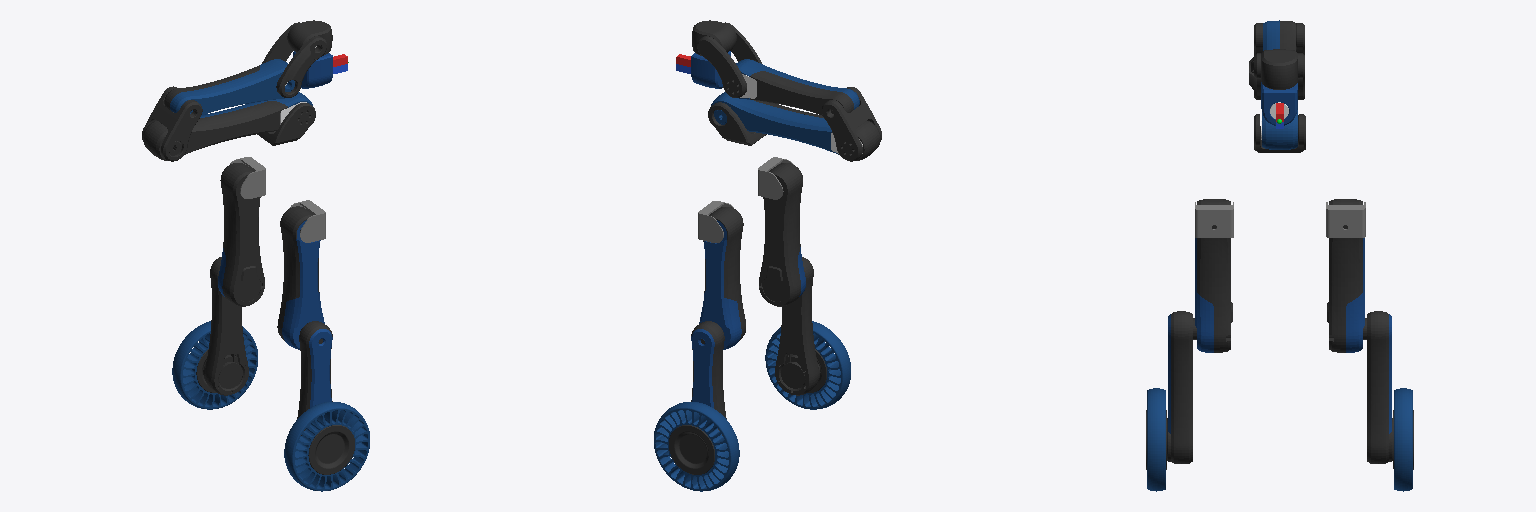
The robot description file, URDF, robot "ß_gripper":
<?xml version="1.0" encoding="utf-8"?>
<robot name="ß_gripper" xmlns:xacro="http://www.ros.org/wiki/xacro">

<!-- =================================================== pineappleV3 =================================================== -->

  <link name="base_link">
    <inertial>
      <origin
        xyz="0.00743277 -0.00031002 0.0824108" rpy="0 0 0" />
      <mass
        value="4.6" />
      <inertia
        ixx="0.03542461"
        ixy="-5.543E-05"
        ixz="0.00267146"
        iyy="0.04154315"
        iyz="2.215E-05"
        izz="0.04752478" />
    </inertial>
    <visual>
        <origin xyz="0 0 0" rpy="0 0 0" />
        <geometry>
          <mesh filename="package://v3_arm/meshes/base_link.dae" scale="1 1 1" />
        </geometry>
    </visual>
    <collision>
      <origin xyz="-0.005 0 0.05" rpy="0 0 0" />
      <geometry>
        <box size="0.23 0.08 0.12"/>
      </geometry>
    </collision>
    <collision>
      <origin xyz="-0.015 0 0.13" rpy="0 0 0" />
      <geometry>
        <box size="0.29 0.145 0.04"/>
      </geometry>
    </collision>
    <collision>
      <origin xyz="0 0 0.17" rpy="0 0 0" />
      <geometry>
        <box size="0.13 0.13 0.04"/>
      </geometry>
    </collision>
    <collision>
      <origin xyz="0.0864 -0.1208 0.043" rpy="0 1.57 0" />
      <geometry>
        <cylinder length="0.05" radius="0.045"/>
      </geometry>
    </collision>
    <collision>
      <origin xyz="0.0864 0.1208 0.043" rpy="0 1.57 0" />
      <geometry>
        <cylinder length="0.05" radius="0.045"/>
      </geometry>
    </collision>
  </link>

  <link name="hip_thigh_conn_r">
    <inertial>
      <origin
        xyz="-0.01563098 0.00040205 0.01402603" rpy="0 0 0" />
      <mass
        value="0.24" />
      <inertia
        ixx="0.00024193"
        ixy="-7.054E-09"
        ixz="-1.349E-05"
        iyy="0.00013104"
        iyz="6.889E-09"
        izz="0.00022826" />
    </inertial>
    <visual>
        <origin xyz="0 0 0" rpy="0 0 0" />
        <geometry>
          <mesh filename="package://v3_arm/meshes/hip_thigh_conn.dae" scale="1 1 1" />
        </geometry>
    </visual>
  </link>

  <link name="hip_thigh_conn_l">
    <inertial>
      <origin
        xyz="-0.01563098 0.00040205 0.01402603" rpy="0 0 0" />
      <mass
        value="0.24" />
      <inertia
        ixx="0.00024193"
        ixy="-7.054E-09"
        ixz="-1.349E-05"
        iyy="0.00013104"
        iyz="6.889E-09"
        izz="0.00022826" />
    </inertial>
    <visual>
        <origin xyz="0 0 0" rpy="0 0 0" />
        <geometry>
          <mesh filename="package://v3_arm/meshes/hip_thigh_conn.dae" scale="1 1 1" />
        </geometry>
    </visual>
  </link>

  <link name="thigh_r">
    <inertial>
      <origin
        xyz="-5.792E-05 -0.03537558 -0.12551777" rpy="0 0 0" />
      <mass
        value="1.52" />
      <inertia
        ixx="0.01435771"
        ixy="1.027E-06"
        ixz="-3.292E-06"
        iyy="0.01442563"
        iyz="-0.00012097"
        izz="0.00123446" />
    </inertial>
    <visual>
        <origin xyz="0 0 0" rpy="0 0 0" />
        <geometry>
          <mesh filename="package://v3_arm/meshes/thigh_r.dae" scale="1 1 1" />
        </geometry>
    </visual>
    <collision>
      <origin xyz="0 -0.0367 -0.114" rpy="0 0 0" />
      <geometry>
        <box size="0.064 0.0675 0.288"/>
      </geometry>
    </collision>
  </link>

  <link name="thigh_l">
    <inertial>
      <origin
        xyz="-5.792E-05 0.03537558 -0.12551777" rpy="0 0 0" />
      <mass
        value="1.52" />
      <inertia
        ixx="0.01435771"
        ixy="-1.027E-06"
        ixz="-3.292E-06"
        iyy="0.01442563"
        iyz="0.00012097"
        izz="0.00123446" />
    </inertial>
    <visual>
        <origin xyz="0 0 0" rpy="0 0 0" />
        <geometry>
          <mesh filename="package://v3_arm/meshes/thigh_l.dae" scale="1 1 1" />
        </geometry>
    </visual>
    <collision>
      <origin xyz="0 0.0367 -0.114" rpy="0 0 0" />
      <geometry>
        <box size="0.064 0.0675 0.288"/>
      </geometry>
    </collision>
  </link>

  <link name="calf_r">
    <inertial>
      <origin
        xyz="-9.341E-06 -0.0234359 -0.13792489" rpy="0 0 0" />
      <mass
        value="0.91" />
      <inertia
        ixx="0.0077057"
        ixy="-5.032E-08"
        ixz="1.045E-06"
        iyy="0.00789745"
        iyz="-0.00017235"
        izz="0.00055726" />
    </inertial> 
    <visual>
        <origin xyz="0 0 0" rpy="0 0 0" />
        <geometry>
          <mesh filename="package://v3_arm/meshes/calf_r.dae" scale="1 1 1" />
        </geometry>
    </visual>
    <collision>
      <origin xyz="0 -0.0223 -0.1175" rpy="0 0 0" />
      <geometry>
        <box size="0.07 0.0445 0.295"/>
      </geometry>
    </collision>
  </link>

  <link name="calf_l">
    <inertial>
      <origin
        xyz="-9.341E-06 0.0234359 -0.13792489" rpy="0 0 0" />
      <mass
        value="0.91" />
      <inertia
        ixx="0.0077057"
        ixy="5.032E-08"
        ixz="1.045E-06"
        iyy="0.00789745"
        iyz="0.00017235"
        izz="0.00055726" />
    </inertial>
    <visual>
        <origin xyz="0 0 0" rpy="0 0 0" />
        <geometry>
          <mesh filename="package://v3_arm/meshes/calf_l.dae" scale="1 1 1" />
        </geometry>
    </visual>
    <collision>
      <origin xyz="0 0.0223 -0.1175" rpy="0 0 0" />
      <geometry>
        <box size="0.07 0.0445 0.295"/>
      </geometry>
    </collision>
  </link>

  <link name="wheel_r">
    <inertial>
      <origin
        xyz="0 -0.0101505 0" rpy="0 0 0" />
      <mass
        value="0.49" />
      <inertia
        ixx="0.00104471"
        ixy="0"
        ixz="0"
        iyy="0.00199485"
        iyz="0"
        izz="0.00104471" />
    </inertial>
    <visual>
        <origin xyz="0 0 0" rpy="0 0 0" />
        <geometry>
          <mesh filename="package://v3_arm/meshes/wheel_r.dae" scale="1 1 1" />
        </geometry>
    </visual>
    <collision>
      <origin xyz="0 -0.0097 0" rpy="1.57 0 0" />
      <geometry>
        <cylinder length="0.035" radius="0.0925"/>
      </geometry>
    </collision>
  </link>

  <link name="wheel_l">
    <inertial>
      <origin
        xyz="0 0.0101505 0" rpy="0 0 0" />
      <mass
        value="0.49" />
      <inertia
        ixx="0.00104471"
        ixy="0"
        ixz="0"
        iyy="0.00199485"
        iyz="0"
        izz="0.00104471" />
    </inertial>
    <visual>
        <origin xyz="0 0 0" rpy="0 0 0" />
        <geometry>
          <mesh filename="package://v3_arm/meshes/wheel_l.dae" scale="1 1 1" />
        </geometry>
    </visual>
    <collision>
      <origin xyz="0 0.0097 0" rpy="1.57 0 0" />
      <geometry>
        <cylinder length="0.035" radius="0.0925"/>
      </geometry>
    </collision>
  </link>

  <joint name="hip_r_joint" type="revolute">
    <parent link="base_link"/>
    <child link="hip_thigh_conn_r"/>
    <origin xyz="0.0303 -0.1208 0.04299" rpy="0 0 0"/>
    <axis xyz="1 0 0"/>
    <limit
      lower="-1.0472"
      upper="0.6108"
      effort="0"
      velocity="0" />
  </joint>

  <joint name="thigh_r_joint" type="revolute">
    <parent link="hip_thigh_conn_r"/>
    <child link="thigh_r"/>
    <origin xyz="-0.04 0.034 0" rpy="0 0 0"/>
    <axis xyz="0 1 0"/>
    <limit
      lower="0"
      upper="1.74533"
      effort="0"
      velocity="0" />
  </joint>

  <joint name="calf_r_joint" type="revolute">
    <parent link="thigh_r"/>
    <child link="calf_r"/>
    <origin xyz="0 -0.0741 -0.225" rpy="0 0 0"/>
    <axis xyz="0 1 0"/>
    <limit
      lower="-3.229"
      upper="0"
      effort="0"
      velocity="0" />
  </joint>

  <joint name="wheel_r_joint" type="revolute">
    <parent link="calf_r"/>
    <child link="wheel_r"/>
    <origin xyz="0 -0.0563 -0.225" rpy="0 0 0"/>
    <axis xyz="0 1 0"/>
    <limit
      effort="11.0"
      velocity="15.708" />
  </joint>

  <joint name="hip_l_joint" type="revolute">
    <parent link="base_link"/>
    <child link="hip_thigh_conn_l"/>
    <origin xyz="0.0303 0.1208 0.04299" rpy="0 0 0"/>
    <axis xyz="1 0 0"/>
    <limit
      lower="-0.6108"
      upper="1.0472"
      effort="0"
      velocity="0" />
  </joint>

  <joint name="thigh_l_joint" type="revolute">
    <parent link="hip_thigh_conn_l"/>
    <child link="thigh_l"/>
    <origin xyz="-0.04 -0.034 0" rpy="0 0 0"/>
    <axis xyz="0 1 0"/>
    <limit
      lower="0"
      upper="1.74533"
      effort="0"
      velocity="0" />
  </joint>

  <joint name="calf_l_joint" type="revolute">
    <parent link="thigh_l"/>
    <child link="calf_l"/>
    <origin xyz="0 0.0741 -0.225" rpy="0 0 0"/>
    <axis xyz="0 1 0"/>
    <limit
      lower="-3.229"
      upper="0"
      effort="0"
      velocity="0" />
  </joint>

  <joint name="wheel_l_joint" type="revolute">
    <parent link="calf_l"/>
    <child link="wheel_l"/>
    <origin xyz="0 0.0563 -0.225" rpy="0 0 0"/>
    <axis xyz="0 1 0"/>
    <limit
      effort="11.0"
      velocity="15.708" />
  </joint>

<!-- =================================================== Ｒobot arm =================================================== -->
  
  <joint name="arm_joint" type="revolute">
    <parent link="base_link"/>
    <child link="arm_base"/>
    <origin xyz="0.00095065 -0.00034599 0.19273537" rpy="0 0 0"/>
    <axis xyz="0 0 1"/>
    <limit
      lower="-1.5708"
      upper="1.5708"
      effort="0"
      velocity="0" />
  </joint>

  <link name="arm_base">
    <inertial>
      <origin
        xyz="0.01289341 -0.00240469 0.02505713" rpy="0 0 0" />
      <mass
        value="0.2549039" />
      <inertia
        ixx="0.00040576"
        ixy="1.895E-05"
        ixz="-6.422E-05"
        iyy="0.00024781"
        iyz="1.820E-05"
        izz="0.00043057" />
    </inertial>
    <visual>
      <origin xyz="0 0 0" rpy="0 0 0"/>
      <geometry>
        <mesh filename="package://v3_arm/meshes/arm_base.dae" scale="1 1 1" />
      </geometry>
    </visual>
  </link>

  <link name="upper_arm">
    <inertial>
      <origin
        xyz="-0.15001643 0.03546654 1.966E-07" rpy="0 0 0" />
      <mass
        value="1.25745063" />
      <inertia
        ixx="0.00094754"
        ixy="-5.064E-05"
        ixz="4.228E-07"
        iyy="0.02025073"
        iyz="-9.390E-08"
        izz="0.02033103" />
    </inertial>
    <visual>
      <origin xyz="0 0 0" rpy="0 0 0"/>
      <geometry>
        <mesh filename="package://v3_arm/meshes/upper_arm.dae" scale="1 1 1" />
      </geometry>
    </visual>
    <collision>
      <origin xyz="-0.1427 0.03553 0" rpy="0 0 0" />
      <geometry>
        <box size="0.353 0.07 0.068"/>
      </geometry>
    </collision>
  </link>

  <link name="fore_arm">
    <inertial>
      <origin
        xyz="0.14561787 -0.03548906 0.06430799" rpy="0 0 0" />
      <mass
        value="0.97574223" />
      <inertia
        ixx="0.00127617"
        ixy="8.280E-05"
        ixz="-0.00132342"
        iyy="0.01186663"
        iyz="4.761E-05"
        izz="0.01184965" />
    </inertial>
    <visual>
      <origin xyz="0 0 0" rpy="0 0 0"/>
      <geometry>
        <mesh filename="package://v3_arm/meshes/fore_arm.dae" scale="1 1 1" />
      </geometry>
    </visual>
    <collision>
      <origin xyz="0.1408 -0.0353 0.075" rpy="0 0 0" />
      <geometry>
        <box size="0.26 0.062 0.06"/>
      </geometry>
    </collision>
  </link>

  <link name="5dof">
    <inertial>
      <origin xyz="0.05653239 -0.03269584 0.05685774" rpy="0 0 0" />
      <mass value="0.54504586" />
      <inertia
        ixx="0.00088771"
        ixy="3.583E-06"
        ixz="-0.00035744"
        iyy="0.00105194"
        iyz="1.221E-05"
        izz="0.00109347" />
    </inertial>
    <visual>
      <origin xyz="0 0 0" rpy="0 0 0"/>
      <geometry>
        <mesh filename="package://v3_arm/meshes/5dof.dae" scale="1 1 1" />
      </geometry>
    </visual>
    <collision>
      <origin xyz="0.079 -0.0323 0.07075" rpy="0 0 0" />
      <geometry>
        <box size="0.065 0.065 0.06"/>
      </geometry>
    </collision>
  </link>

  <link name="6dof">
    <inertial>
      <origin xyz="-0.00187795 -1.398E-08 -0.03443114" rpy="0 0 0" />
      <mass value="0.36685284" />
      <inertia
        ixx="0.00026279"
        ixy="-1.526E-10"
        ixz="-2.505E-06"
        iyy="0.00025222"
        iyz="1.742E-10"
        izz="0.00023237" />
    </inertial>
    <visual>
      <origin xyz="0 0 0" rpy="0 0 0"/>
      <geometry>
        <mesh filename="package://v3_arm/meshes/6dof.dae" scale="1 1 1" />
      </geometry>
    </visual>
    <collision>
      <origin xyz="-0.002 0 -0.037" rpy="0 0 0" />
      <geometry>
        <box size="0.06 0.065 0.072"/>
      </geometry>
    </collision>
  </link>

  <joint name="arm_base_joint" type="revolute">
    <parent link="arm_base"/>
    <child link="upper_arm"/>
    <origin xyz="0.0392 -0.0355 0.052" rpy="0 0 0"/>
    <axis xyz="0 1 0"/>
    <limit
      lower="0"
      upper="3.1416"
      effort="0"
      velocity="0" />
  </joint>

  <joint name="upper_arm_joint" type="revolute">
    <parent link="upper_arm"/>
    <child link="fore_arm"/>
    <origin xyz="-0.3 0.07082 0" rpy="0 0 0"/>
    <axis xyz="0 1 0"/>
    <limit
      lower="-3.1416"
      upper="0"
      effort="0"
      velocity="0" />
  </joint>

  <joint name="fore_arm_joint" type="revolute">
    <parent link="fore_arm"/>
    <child link="5dof"/>
    <origin xyz="0.2698 -0.00295 0.075" rpy="0 0 0"/>
    <axis xyz="0 1 0"/>
    <limit
      lower="-1.5708"
      upper="1.7453"
      effort="0"
      velocity="0" />
  </joint>

  <joint name="5dof_joint" type="revolute">
    <parent link="5dof"/>
    <child link="6dof"/>
    <origin xyz="0.08 -0.0328 0.04075" rpy="0 0 0"/>
    <axis xyz="0 0 1"/>
    <limit
      lower="-1.5708"
      upper="1.5708"
      effort="0"
      velocity="0" />
  </joint>

<!-- =================================================== Pinch gripper =================================================== -->

  <link name="gripper_center">
    <inertial>
      <origin xyz="0 0 0" rpy="0 0 0" />
      <mass value="0.001" />
      <inertia
        ixx="1.0E-08"
        ixy="0"
        ixz="0"
        iyy="1.0E-08"
        iyz="0"
        izz="1.0E-08" />
    </inertial>
    <visual>
      <origin xyz="0 0 0" rpy="0 0 0" />
      <geometry>
        <sphere radius="0.005"/>
      </geometry>
      <material name="gripper_center">
        <color rgba="0.1 0.9 0.2 1"/>
      </material>
    </visual>
  </link>

  <link name="gripper_left_finger">
    <inertial>
      <origin xyz="0.0 0 0" rpy="0 0 0" />
      <mass value="0.015" />
      <inertia
        ixx="3.0E-06"
        ixy="0"
        ixz="0"
        iyy="3.3E-05"
        iyz="0"
        izz="3.2E-05" />
    </inertial>
    <visual>
      <origin xyz="0.0 0 0" rpy="0 0 0" />
      <geometry>
        <box size="0.05 0.016 0.015"/>
      </geometry>
      <material name="gripper_left">
        <color rgba="0.9 0.2 0.2 1"/>
      </material>
    </visual>
    <collision>
      <origin xyz="0.0 0 0" rpy="0 0 0" />
      <geometry>
        <box size="0.05 0.016 0.015"/>
      </geometry>
    </collision>
  </link>

  <link name="gripper_right_finger">
    <inertial>
      <origin xyz="0.0 0 0" rpy="0 0 0" />
      <mass value="0.015" />
      <inertia
        ixx="3.0E-06"
        ixy="0"
        ixz="0"
        iyy="3.3E-05"
        iyz="0"
        izz="3.2E-05" />
    </inertial>
    <visual>
      <origin xyz="0.0 0 0" rpy="0 0 0" />
      <geometry>
        <box size="0.05 0.016 0.015"/>
      </geometry>
      <material name="gripper_right">
        <color rgba="0.2 0.4 0.9 1"/>
      </material>
    </visual>
    <collision>
      <origin xyz="0.0 0 0" rpy="0 0 0" />
      <geometry>
        <box size="0.05 0.016 0.015"/>
      </geometry>
    </collision>
  </link>

  <joint name="gripper_center_joint" type="fixed">
    <parent link="6dof"/>
    <child link="gripper_center"/>
    <origin xyz="0.075 0 -0.04" rpy="0 0 0"/>
  </joint>

  <joint name="gripper_left_joint" type="prismatic">
    <parent link="gripper_center"/>
    <child link="gripper_left_finger"/>
    <origin xyz="-0.025 0 0.008" rpy="1.5708 0 0"/>
    <axis xyz="0 1 0"/>
    <limit
      lower="0"
      upper="0.035"
      effort="10"
      velocity="0.1" />
  </joint>

  <joint name="gripper_right_joint" type="prismatic">
    <parent link="gripper_center"/>
    <child link="gripper_right_finger"/>
    <origin xyz="-0.025 0 -0.008" rpy="1.5708 0 0"/>
    <axis xyz="0 -1 0"/>
    <limit
      lower="0"
      upper="0.035"
      effort="10"
      velocity="0.1" />
  </joint>

</robot>

--- What the picture shows (computed from the rendered views, not written in the file) ---
The picture shows the robot from 3 angles, left to right: view 1: azimuth 30°, elevation 25°; view 2: azimuth 150°, elevation 25°; view 3: azimuth 270°, elevation 25°; orthographic projection.
Model ß_gripper with 17 links and 16 joints (13 revolute, 2 prismatic, 1 fixed), rooted at base_link, posed every joint at zero.
Visible links, largest first — view 1: wheel_r, fore_arm, thigh_l, thigh_r, upper_arm, calf_l, wheel_l, 5dof, calf_r, arm_base, hip_thigh_conn_r, hip_thigh_conn_l (+1 smaller); view 2: wheel_l, fore_arm, thigh_r, thigh_l, upper_arm, calf_r, wheel_r, 5dof, calf_l, arm_base, hip_thigh_conn_l, hip_thigh_conn_r (+1 smaller); view 3: thigh_r, thigh_l, calf_r, calf_l, 5dof, wheel_r, wheel_l, fore_arm, hip_thigh_conn_l, hip_thigh_conn_r, 6dof, upper_arm (+1 smaller).
Boxes of the visible links, x1,y1,x2,y2 form: wheel_r: [284, 402, 369, 491]; fore_arm: [142, 59, 294, 161]; thigh_l: [218, 163, 264, 306]; thigh_r: [277, 206, 324, 349]; upper_arm: [143, 92, 312, 160]; calf_l: [203, 257, 248, 395]; wheel_l: [172, 321, 257, 409]; 5dof: [262, 20, 332, 97]; calf_r: [297, 321, 332, 435]; arm_base: [257, 103, 315, 145]; hip_thigh_conn_r: [289, 200, 325, 242]; hip_thigh_conn_l: [230, 157, 265, 198]; wheel_l: [654, 402, 739, 491]; fore_arm: [736, 59, 881, 161]; thigh_r: [759, 163, 805, 306]; thigh_l: [699, 207, 745, 349]; upper_arm: [711, 92, 880, 160]; calf_r: [775, 257, 820, 395]; wheel_r: [765, 321, 850, 409]; 5dof: [692, 20, 761, 97]; calf_l: [691, 321, 726, 435]; arm_base: [708, 102, 766, 145]; hip_thigh_conn_l: [698, 201, 733, 242]; hip_thigh_conn_r: [758, 157, 793, 199]; thigh_r: [1193, 199, 1232, 352]; thigh_l: [1327, 199, 1366, 352]; calf_r: [1167, 311, 1192, 463]; calf_l: [1367, 311, 1392, 463]; 5dof: [1249, 49, 1304, 99]; wheel_r: [1146, 388, 1166, 491]; wheel_l: [1393, 388, 1413, 491]; fore_arm: [1254, 20, 1304, 55]; hip_thigh_conn_l: [1326, 202, 1365, 237]; hip_thigh_conn_r: [1195, 202, 1233, 237]; 6dof: [1261, 82, 1297, 125]; upper_arm: [1261, 110, 1297, 149].
Bounding box of the posed robot: 0.4665 × 0.494 × 0.9202 m (x, y, z).
13 mesh visuals loaded from 13 distinct referenced files (12 Collada DAE); not drawn: 1 (reference not matched to a file when rendering).
